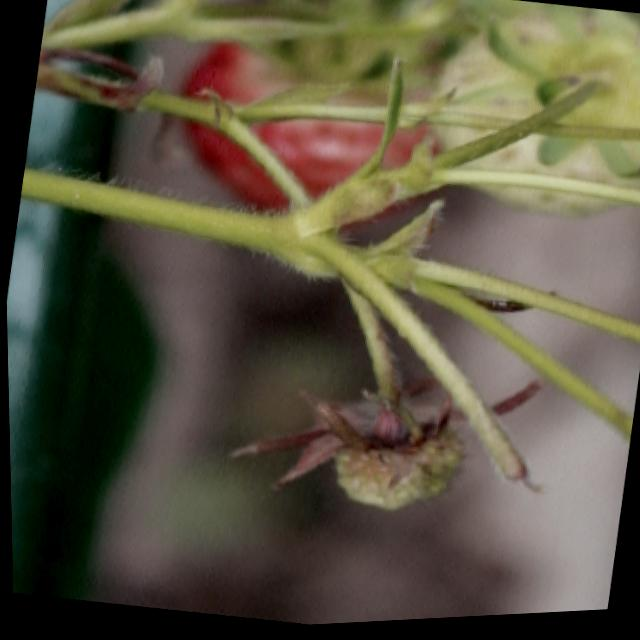Gray Mold: (232, 387, 537, 516)
